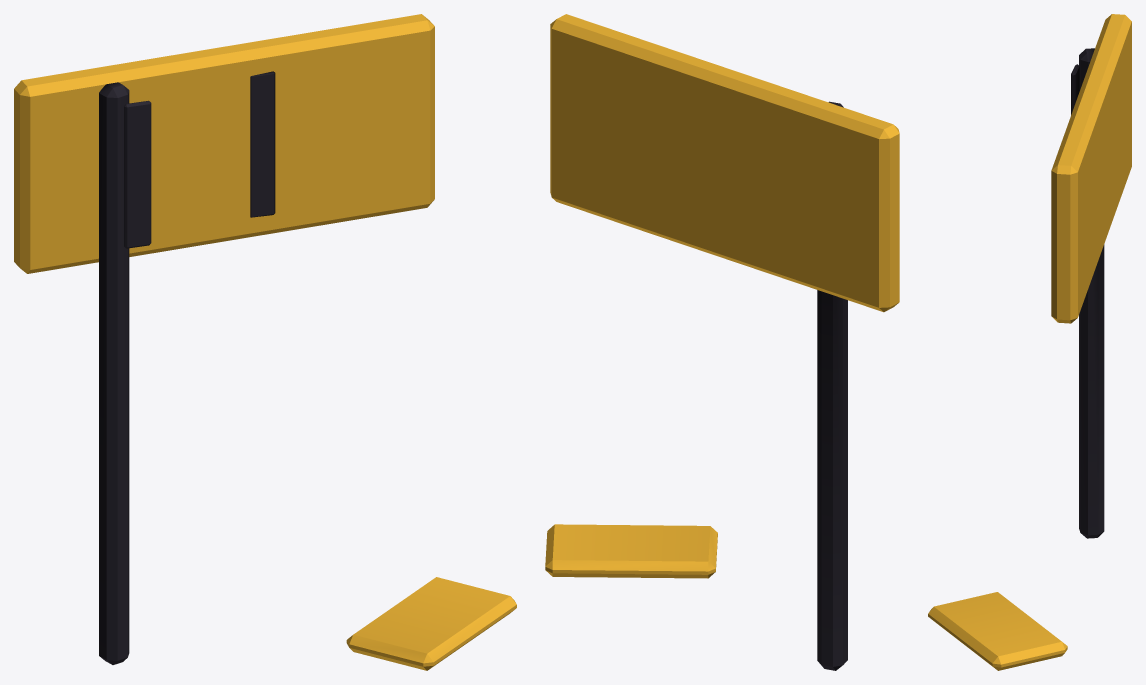
Rendered from decay.damaged-sign.glb.
The picture shows the model from 3 angles, left to right: view 1: azimuth 30°, elevation 25°; view 2: azimuth 150°, elevation 25°; view 3: azimuth 270°, elevation 25°; orthographic projection. The views are drawn at different scales.
Parts seen in each view (by area): view 1: body; view 2: body; view 3: body.
Boxes of the visible parts, <box> form: body: <box>14,14,516,670</box>; body: <box>545,14,899,670</box>; body: <box>928,14,1131,670</box>.
Size of the model in its own units: 1.55 by 2.03 by 0.7611.
